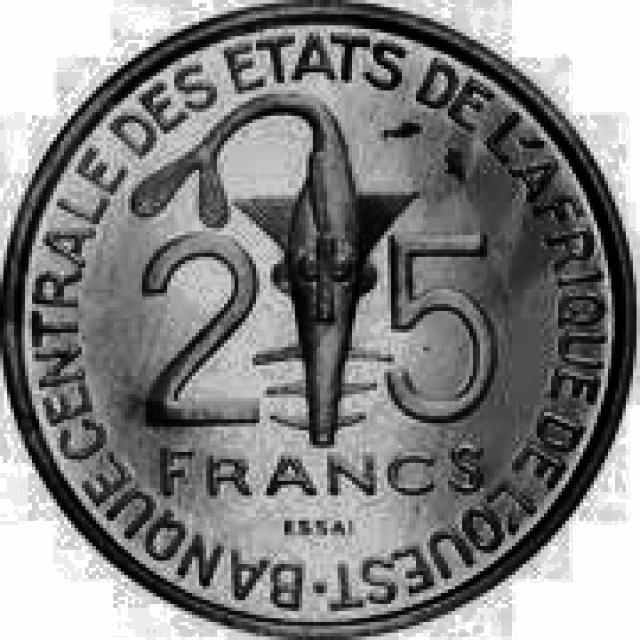juroom derem: (6, 10, 629, 631)
